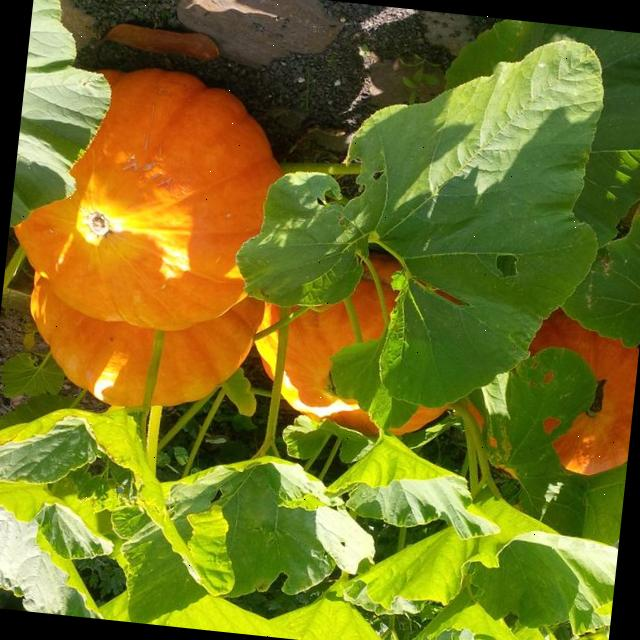pumpkin: (14, 68, 279, 329), (528, 309, 639, 474), (29, 274, 153, 404), (281, 302, 376, 435), (151, 297, 263, 405), (350, 277, 382, 340), (389, 404, 442, 434), (370, 254, 397, 310), (255, 332, 276, 376)
